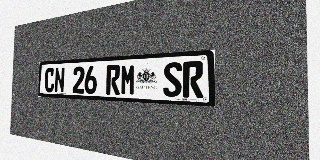2: (73, 66, 85, 94)
6: (84, 66, 97, 94)
C: (44, 68, 55, 92)
M: (120, 64, 136, 95)
N: (54, 67, 65, 93)
R: (183, 61, 203, 98), (106, 65, 120, 95)
S: (163, 62, 182, 97)
